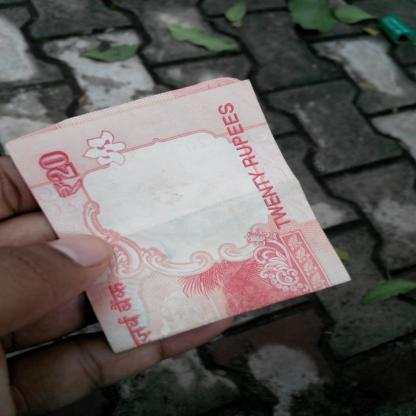Old20Back: (22, 90, 312, 340)
